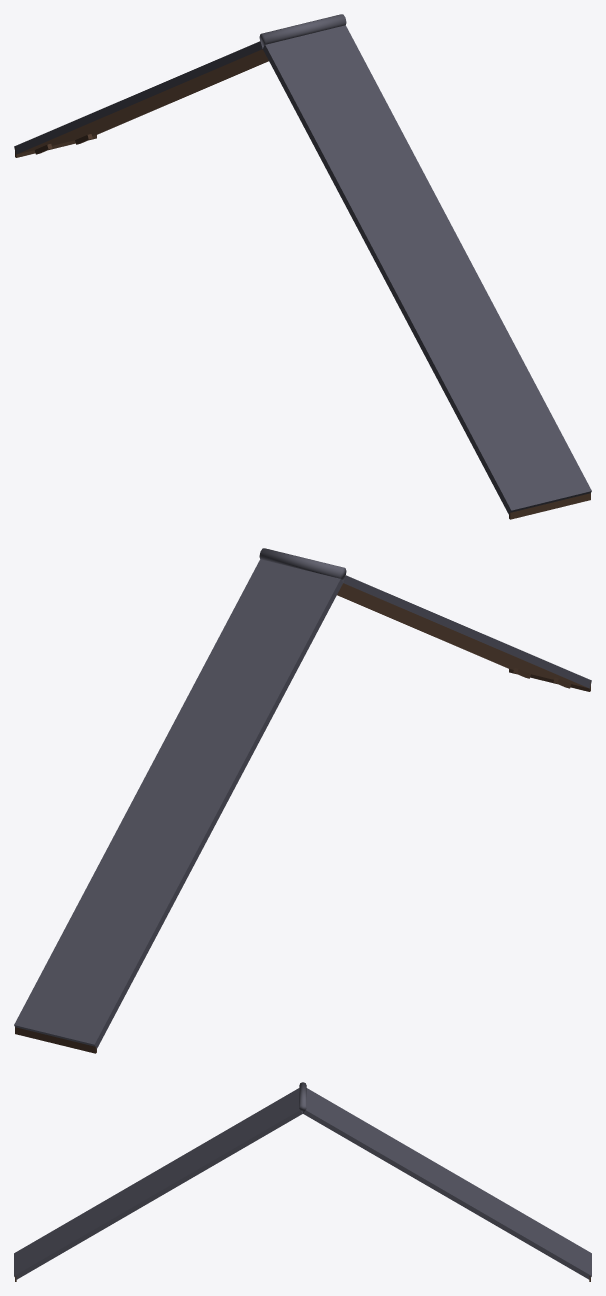
The model's file is kit_timber_slate_w10.glb.
3 views of the same model, one above another, from view 1: azimuth 30°, elevation 25°; view 2: azimuth 150°, elevation 25°; view 3: azimuth 270°, elevation 25° (orthographic). The views are drawn at different scales.
Visible parts, largest first — view 1: kit_timber_slate_w10; view 2: kit_timber_slate_w10; view 3: kit_timber_slate_w10.
Part boxes in pixels (x1=…): kit_timber_slate_w10: x1=14, y1=14, x2=591, y2=519; kit_timber_slate_w10: x1=14, y1=548, x2=591, y2=1053; kit_timber_slate_w10: x1=14, y1=1082, x2=591, y2=1281.
Size of the model in its own units: 1 by 3.61 by 10.7.
